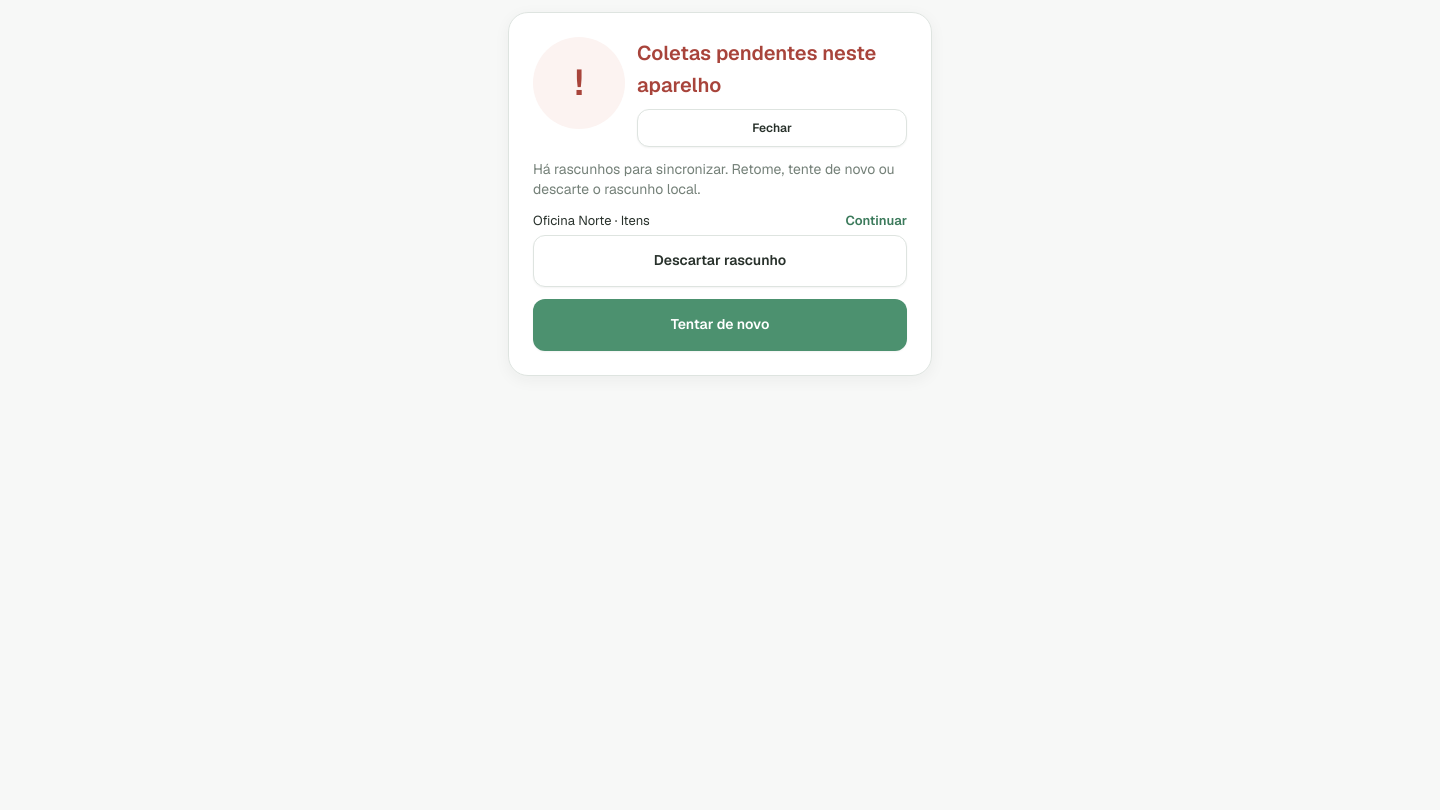
Test: OfflinePendingBanner online drain › disables discard while discard is in progress then completes successfully
The image size is (1440, 810).
Click the button "Descartar rascunho".
click(720, 260)  # box [533,234,907,286]
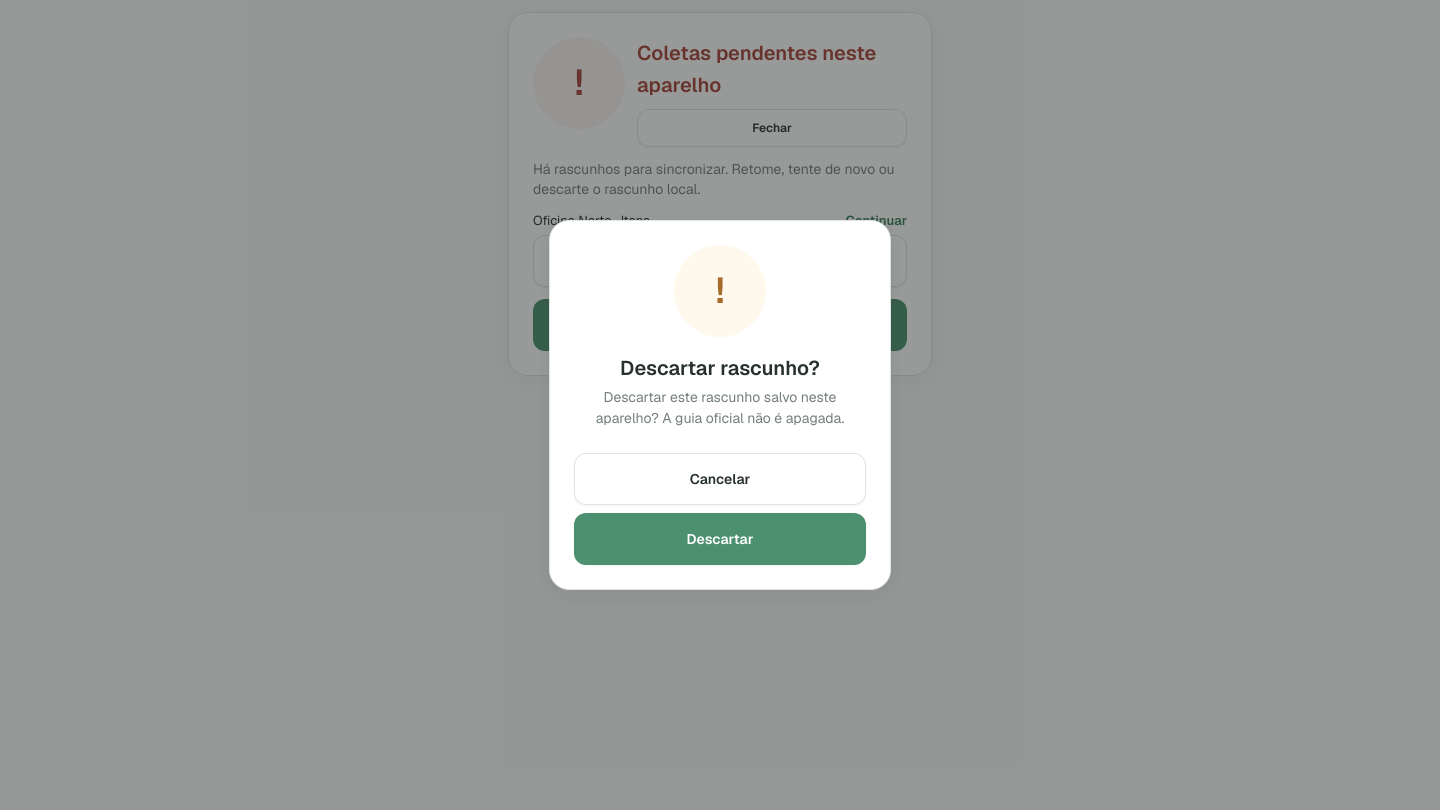
Check: the dialog "Descartar rascunho?" is shown, box [549,220,891,590]
Click the button "Descartar".
click(720, 539)  # box [574,513,866,565]
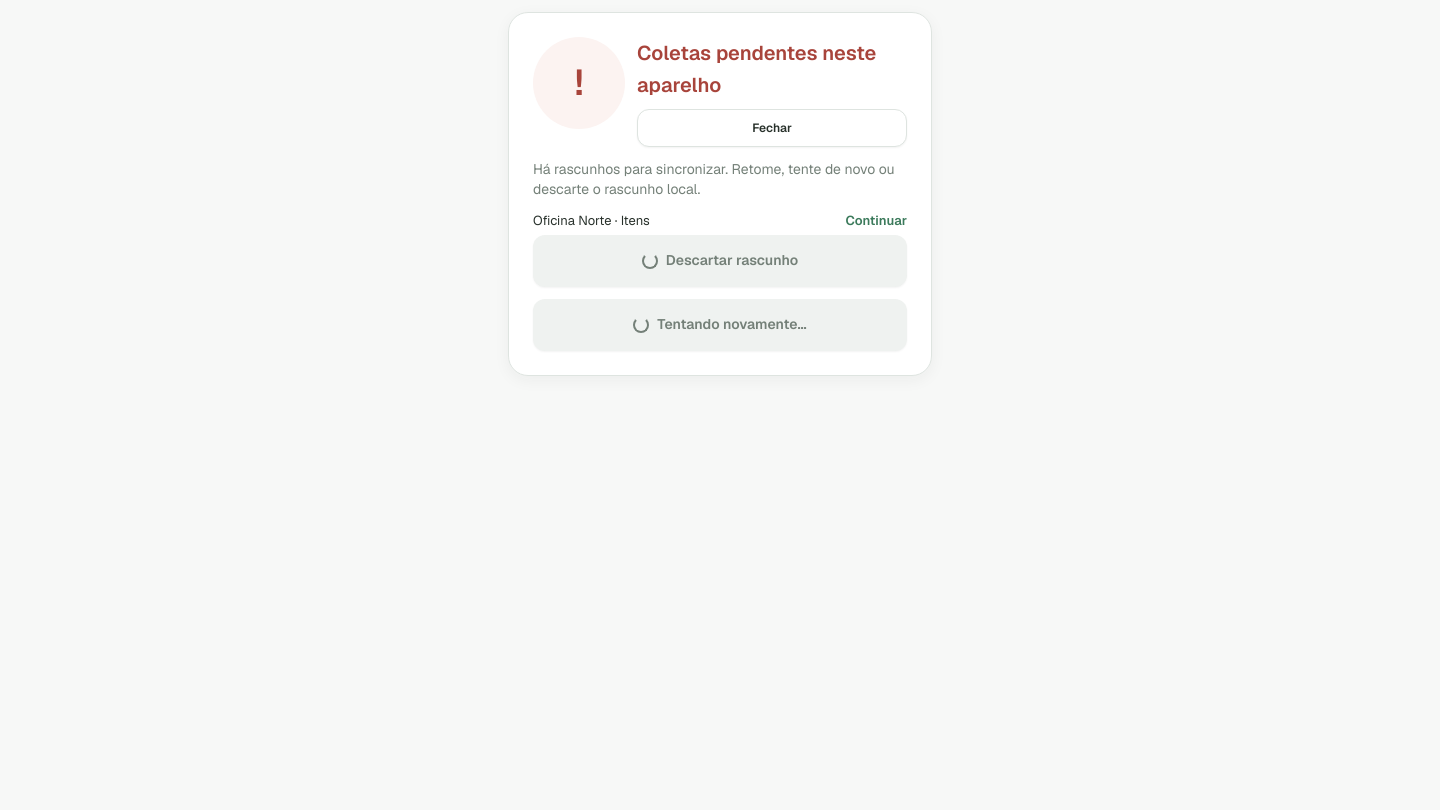
Check: the button "Descartar rascunho" is disabled, box [533,234,907,286]
